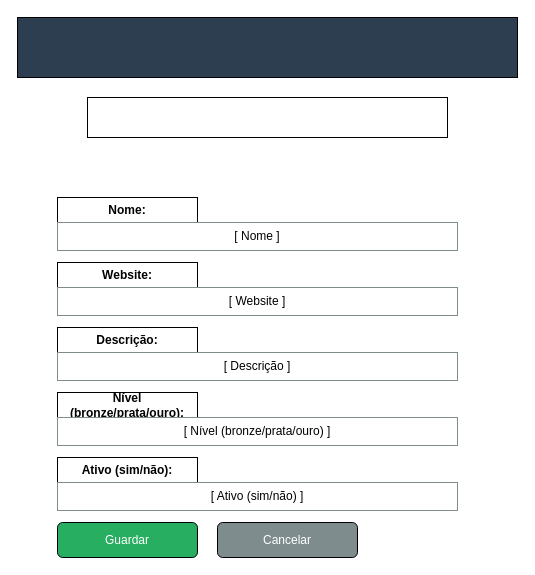
The diagram is 535 pixels wide and 575 high, and some of its shapes have lost their labels. Here are the shapes that lost their labels. From the top down, the box of each, then its label:
(16, 16, 518, 78): LOGO | Menu Admin
(86, 96, 448, 138): PATROCINADORES — Editar (Mobile)
